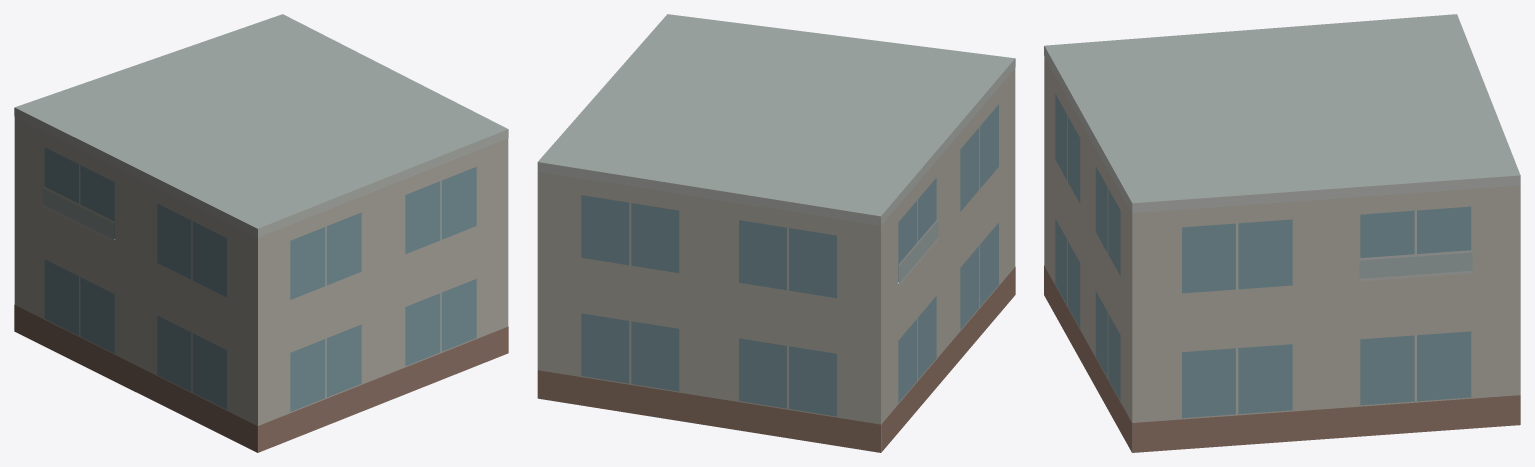
Rendered from survey-upis-32751322.glb.
3 renders of one model, left to right at view 1: azimuth 30°, elevation 25°; view 2: azimuth 150°, elevation 25°; view 3: azimuth 270°, elevation 25°, orthographic. The views are drawn at different scales.
Visible parts, largest first — view 1: survey-upis-32751322.tmp; view 2: survey-upis-32751322.tmp; view 3: survey-upis-32751322.tmp.
Part boxes in pixels (box(x1,y1,x2,y2)): survey-upis-32751322.tmp: box(14, 14, 508, 452); survey-upis-32751322.tmp: box(537, 14, 1015, 452); survey-upis-32751322.tmp: box(1044, 14, 1520, 452).
Size of the model in its own units: 9.93 by 6.1 by 10.56.
